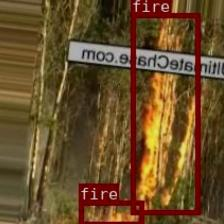fire: (130, 12, 200, 214), (77, 199, 142, 224)
